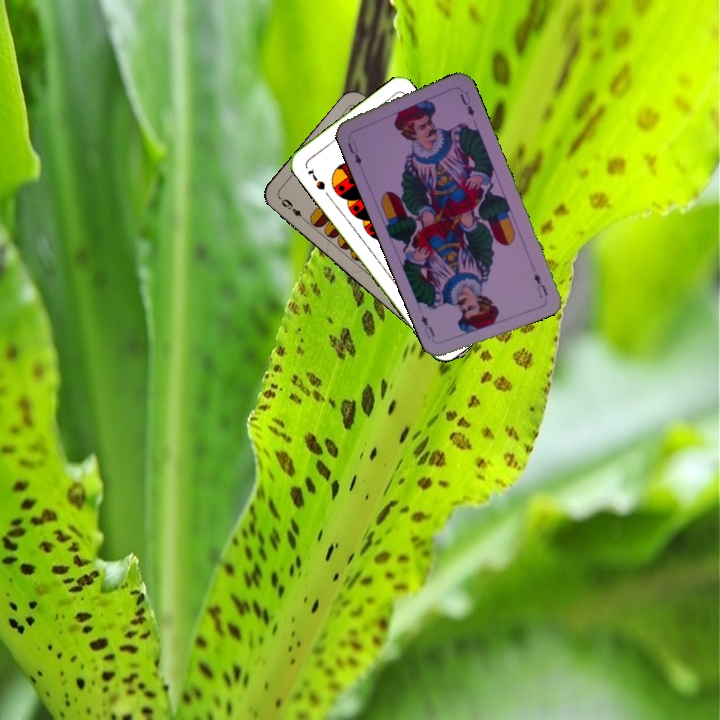E9: (276, 194, 309, 224)
EU: (343, 136, 364, 167), (530, 269, 550, 300)
S7: (304, 165, 328, 193)
